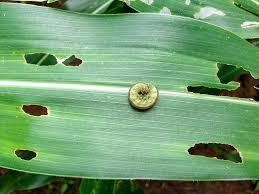fallarmy_worm: (126, 80, 163, 112)
